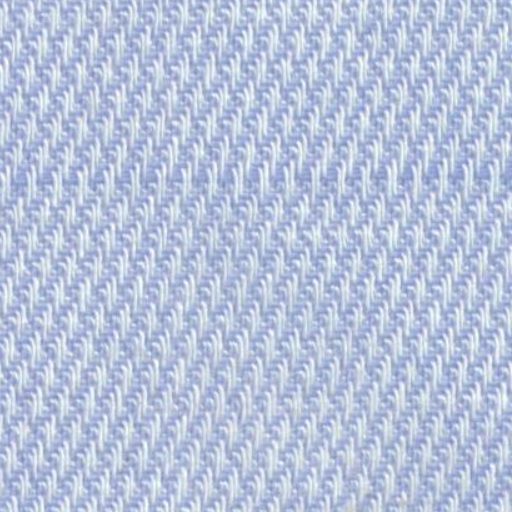TuoSha: (16, 138, 500, 222)
